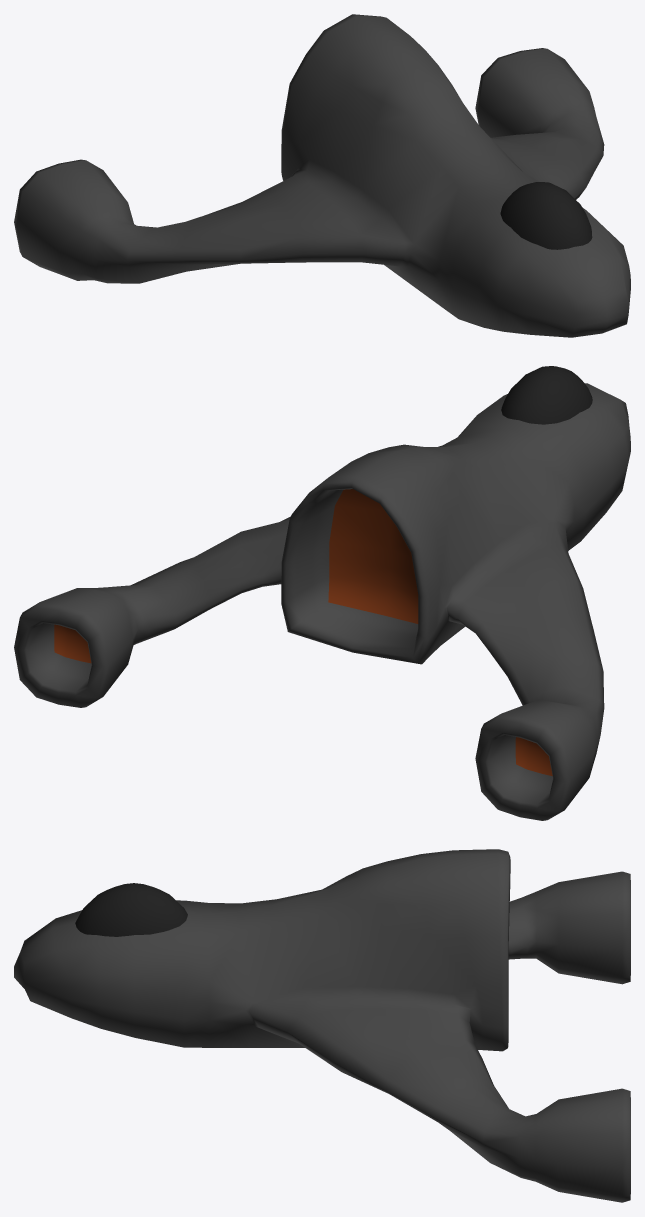
The model's file is JESUS_FUCKING_CHRIST_SHIP.dae.
3 views of the same model, one above another, from view 1: azimuth 30°, elevation 25°; view 2: azimuth 150°, elevation 25°; view 3: azimuth 270°, elevation 25° (orthographic). The views are drawn at different scales.
Parts seen in each view (by area): view 1: Cube; view 2: Cube; view 3: Cube.
Boxes of the visible parts, x1=… form: Cube: x1=14, y1=14, x2=630, y2=337; Cube: x1=14, y1=366, x2=630, y2=820; Cube: x1=14, y1=849, x2=630, y2=1202.
Size of the model in its own units: 5.11 by 5.09 by 2.1.
